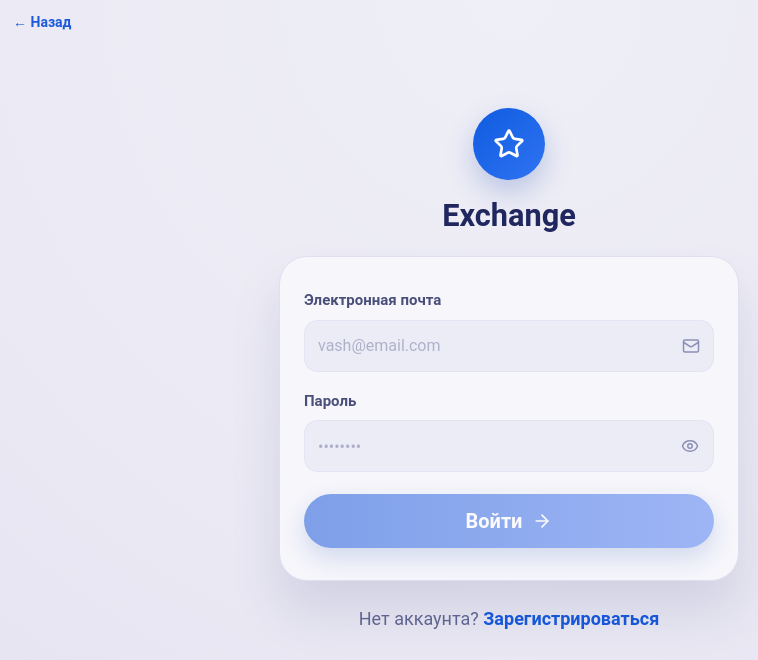
Test case: AuthForm › enables submit only after valid email and password
The width and height of the screenshot is (758, 660).
Check: the submit button is disabled, box [304,494,714,548]
In the field with placeholder "vash@email.com": (509, 346) [304,320,714,372], type "wrong-email"
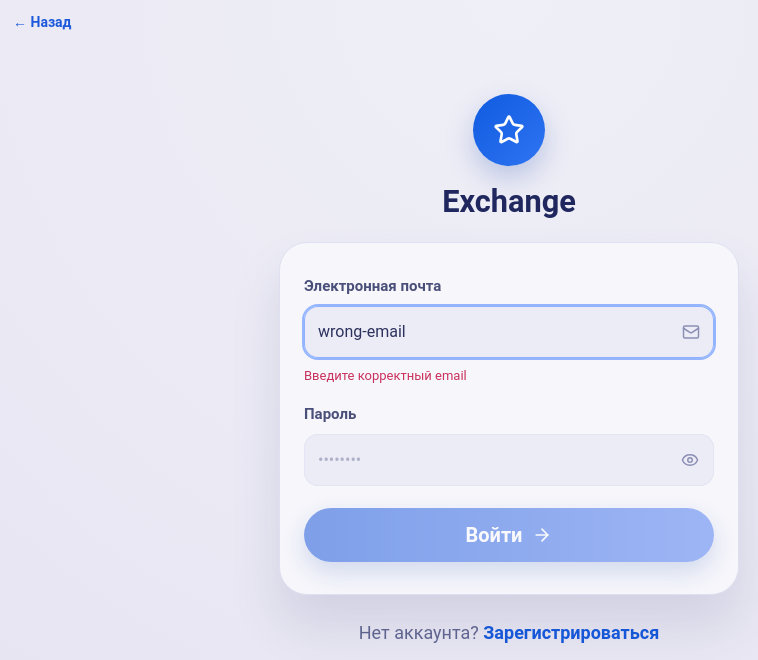
In the password field labelled "Пароль": (509, 460) [304,434,714,486], type "1234"
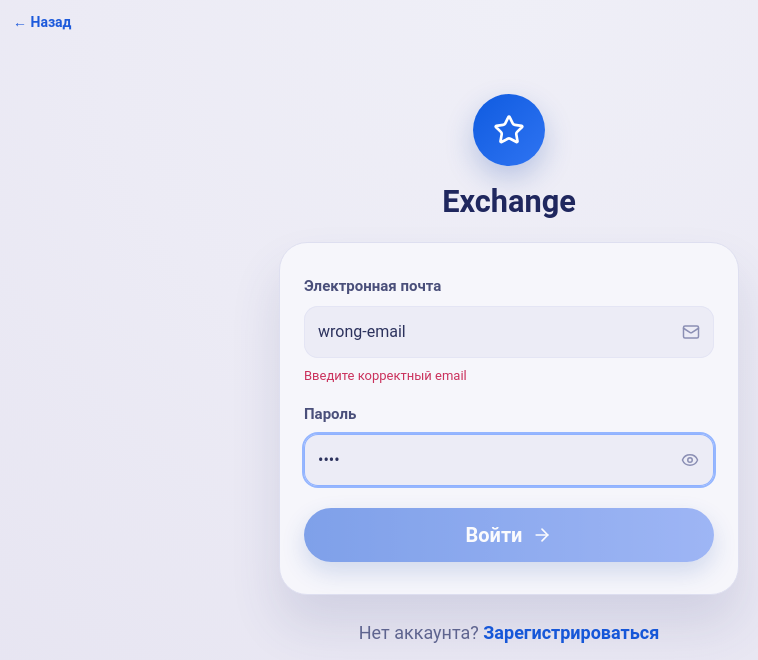
Check: the submit button is disabled, box [304,508,714,562]
Replace the text in the field with placeholder "vash@email.com" with "user@test.ru": (509, 332) [304,306,714,358]
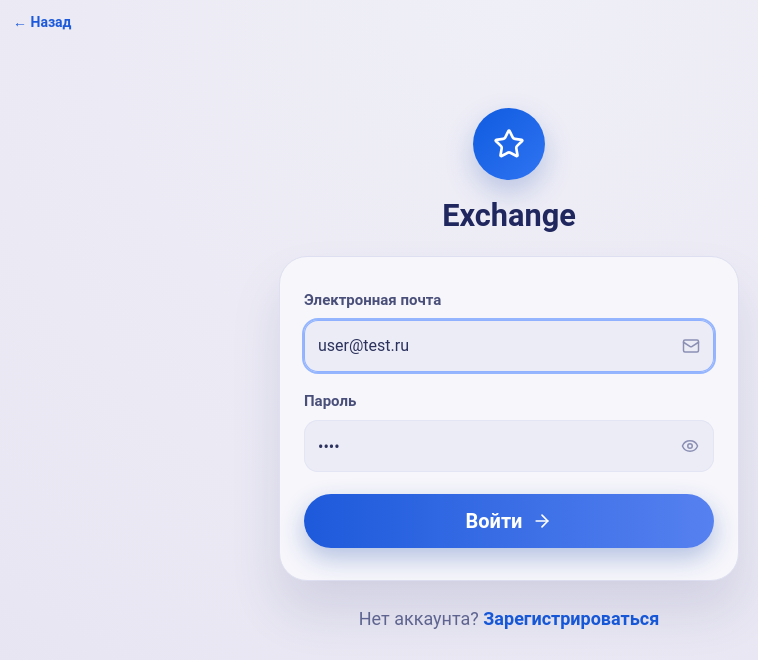
Check: the submit button is enabled, box [304,494,714,548]
